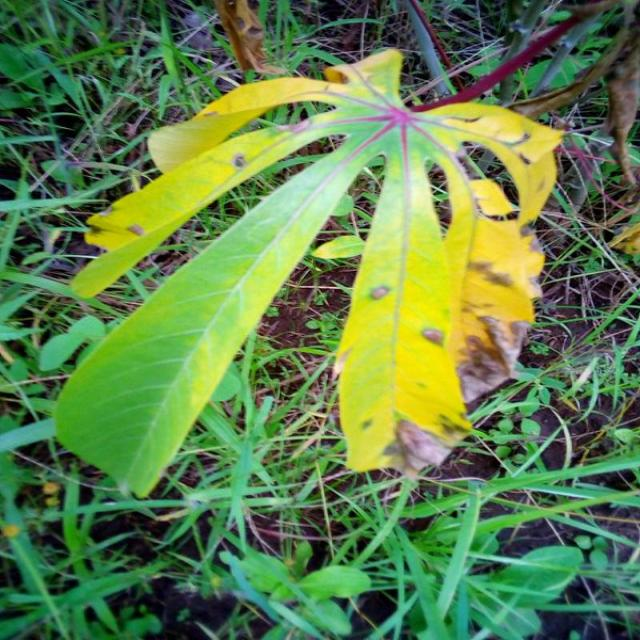cassava leaf: (52, 46, 566, 499)
